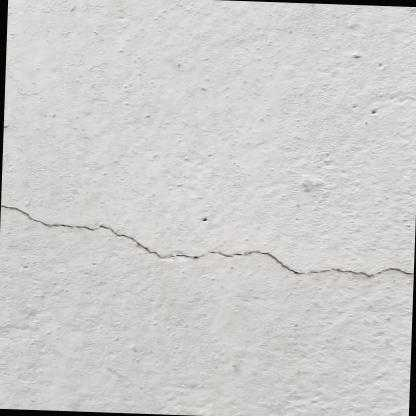crack: (96, 226, 414, 278), (0, 205, 97, 231)
